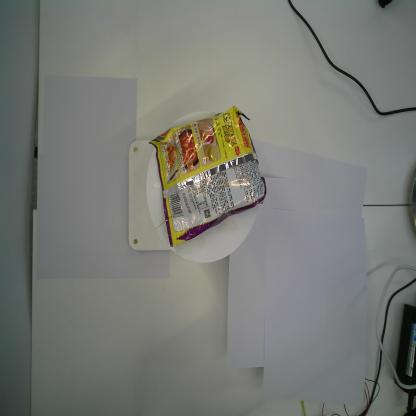Instant Noodles: (147, 104, 267, 248)
